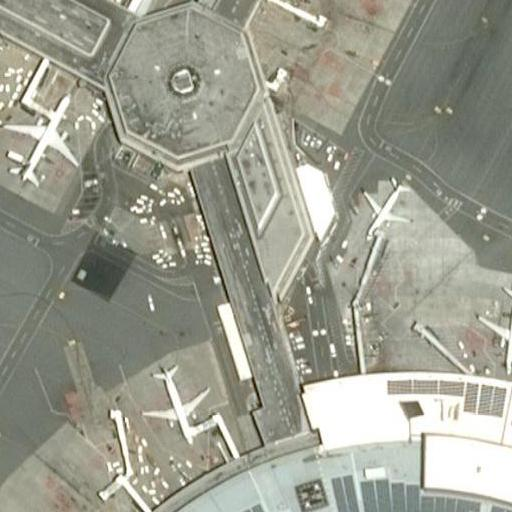Aircraft: (3, 92, 79, 185), (141, 360, 210, 448), (361, 176, 416, 242), (477, 284, 512, 374)
